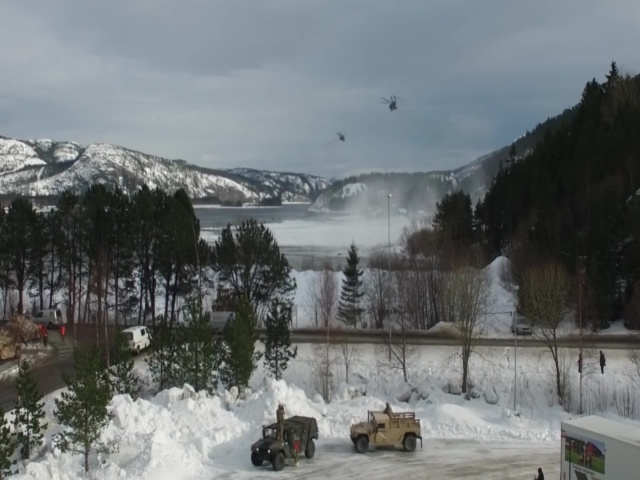person: (276, 402, 285, 443), (598, 348, 606, 375)
vehicle: (251, 413, 319, 471), (349, 408, 423, 455)
